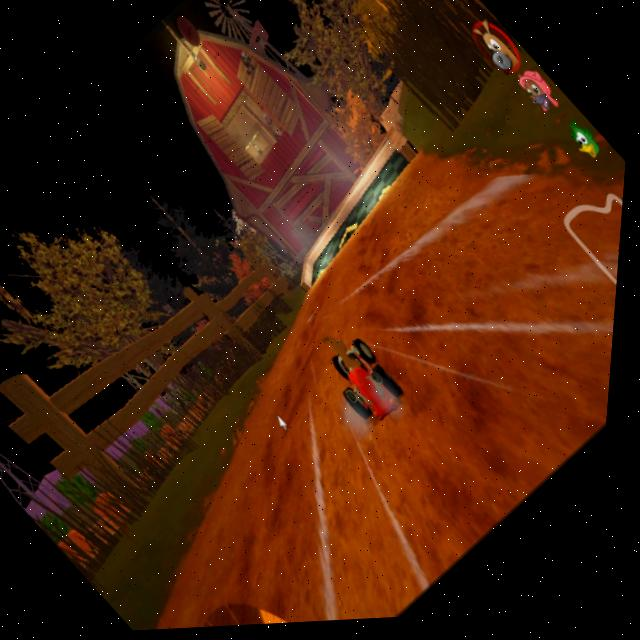player_kart: (310, 322, 433, 444)
track: (299, 127, 631, 503)
